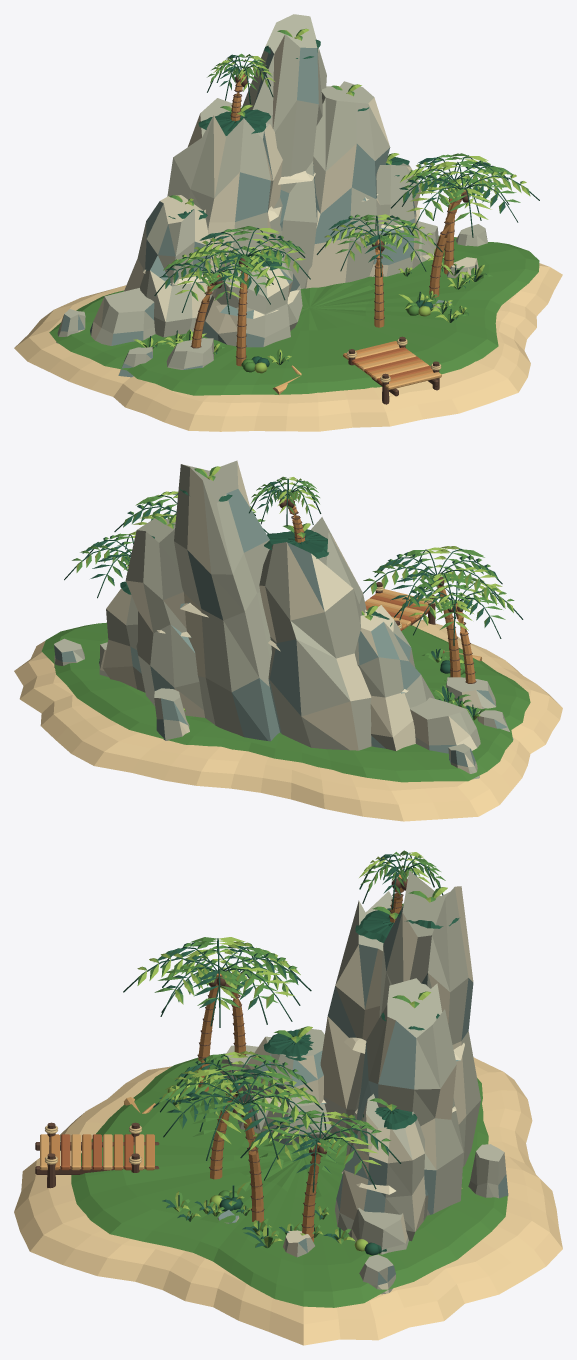
File: island.glb
3 views of the same model, one above another, from view 1: azimuth 30°, elevation 25°; view 2: azimuth 150°, elevation 25°; view 3: azimuth 270°, elevation 25° (orthographic). The views are drawn at different scales.
Visible parts, largest first — view 1: Island_Static_Geometry; view 2: Island_Static_Geometry; view 3: Island_Static_Geometry.
Boxes of the visible parts, x1,y1,x2,y2 form: Island_Static_Geometry: (14, 14, 562, 431); Island_Static_Geometry: (14, 460, 562, 821); Island_Static_Geometry: (14, 850, 562, 1345).
Size of the model in its own units: 18.46 by 9.68 by 14.37.
